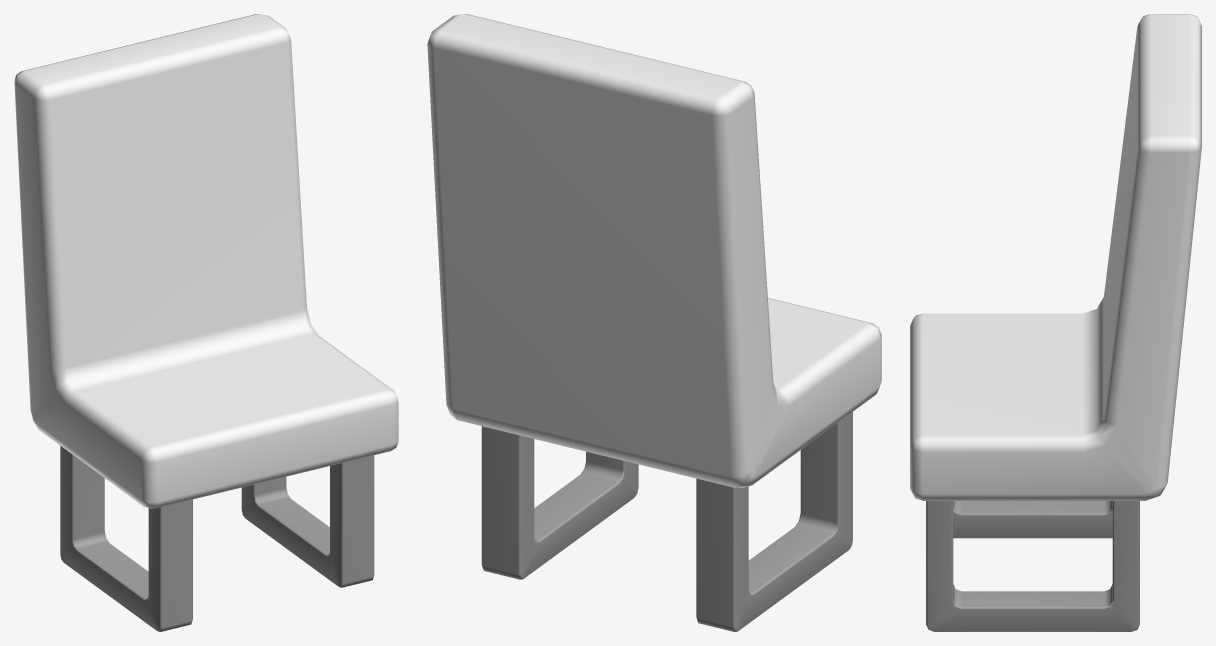
The model's file is Chair_white.glb.
3 views of the same model, side by side, from view 1: azimuth 30°, elevation 25°; view 2: azimuth 150°, elevation 25°; view 3: azimuth 270°, elevation 25° (orthographic). The views are drawn at different scales.
Visible parts, largest first — view 1: Chair_4; view 2: Chair_4; view 3: Chair_4.
Part boxes in pixels (x1=…): Chair_4: x1=14, y1=14, x2=398, y2=631; Chair_4: x1=427, y1=14, x2=881, y2=631; Chair_4: x1=910, y1=14, x2=1201, y2=631.
Bounding box in the file's own units: 0.7178 × 1.27 × 0.6697.
1 material, 1 textured.
